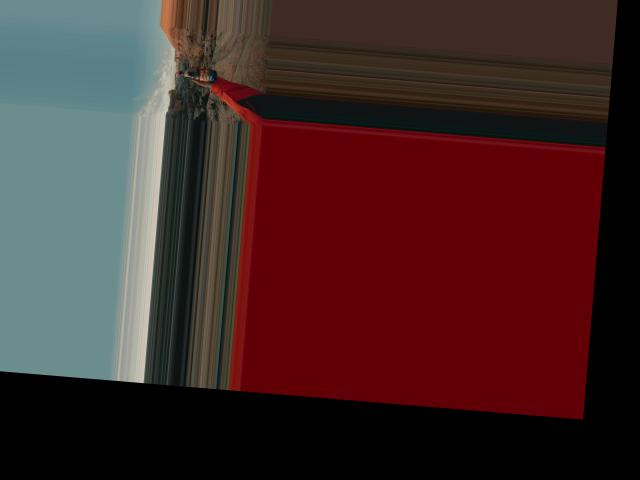beer: (178, 66, 216, 82)
